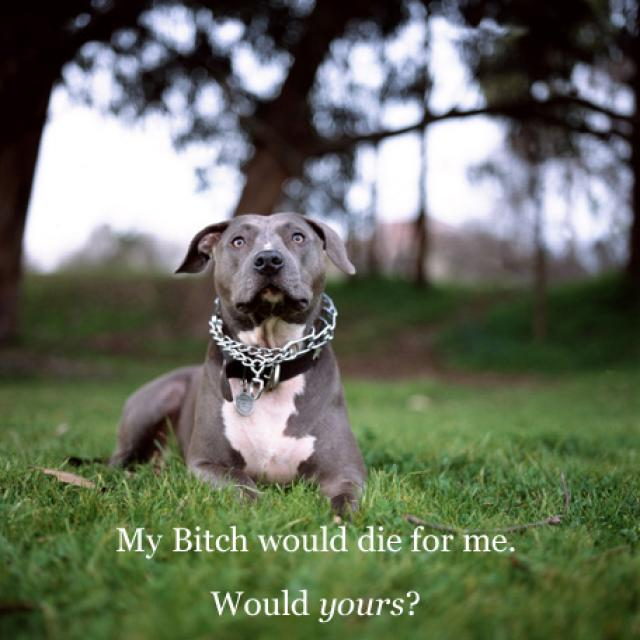dog-american_pit_bull_terrier: (98, 209, 368, 526)
